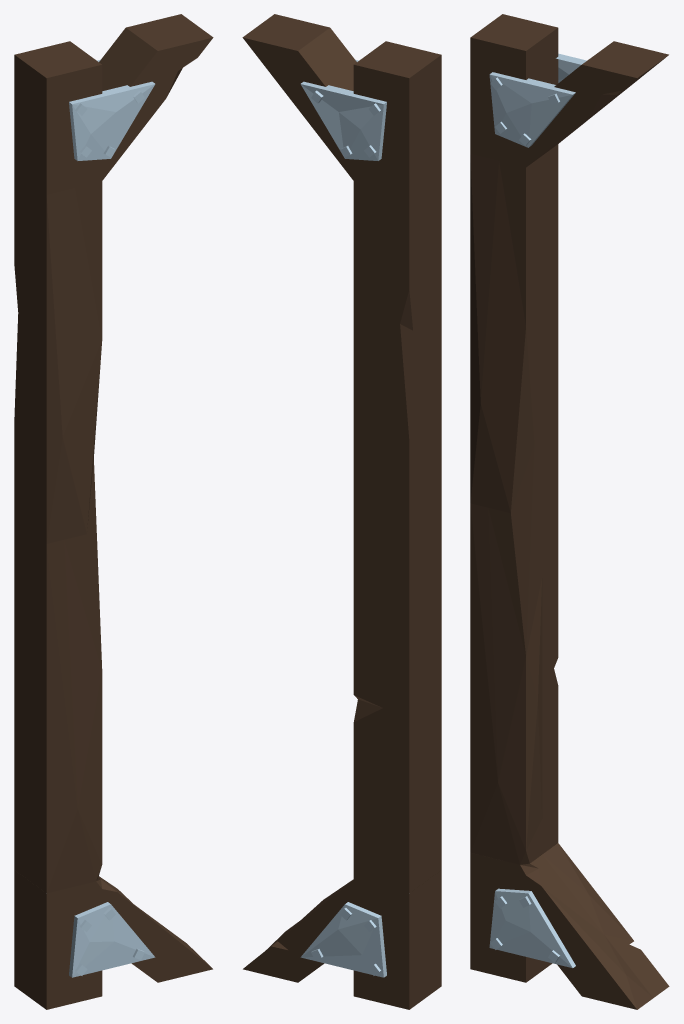
Rendered from Strut_Tall.fbx.
The picture shows the model from 3 angles, left to right: view 1: azimuth 30°, elevation 25°; view 2: azimuth 150°, elevation 25°; view 3: azimuth 330°, elevation 25°; orthographic projection.
Visible parts, largest first — view 1: Strut_Tall; view 2: Strut_Tall; view 3: Strut_Tall.
Boxes of the visible parts, x1,y1,x2,y2 form: Strut_Tall: (14,14,213,1009); Strut_Tall: (242,14,441,1009); Strut_Tall: (470,14,669,1009).
Bounding box in the file's own units: 3 × 16 × 1.32.
